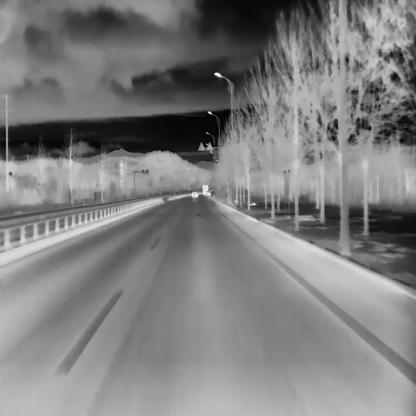car: (190, 190, 198, 198), (206, 189, 210, 196)
truck: (202, 184, 208, 195)
